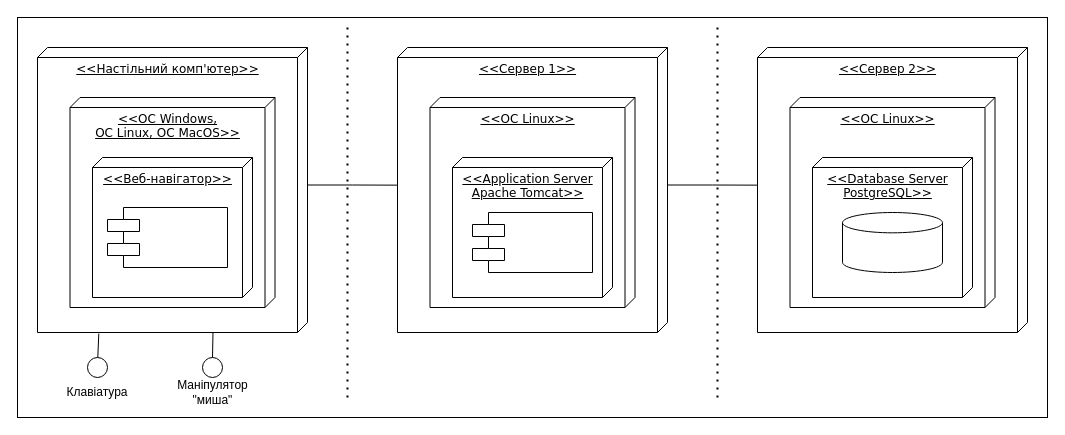
The diagram is 1065 pixels wide and 435 high, and some of its shapes have lost their labels. Here are the shapes that lost their labels. From the top down, the centre of each, then its label:
At (167,237): "*.js (Angular)".
At (532,242): "*.jar".
At (892,242): "Relation DataBase".
